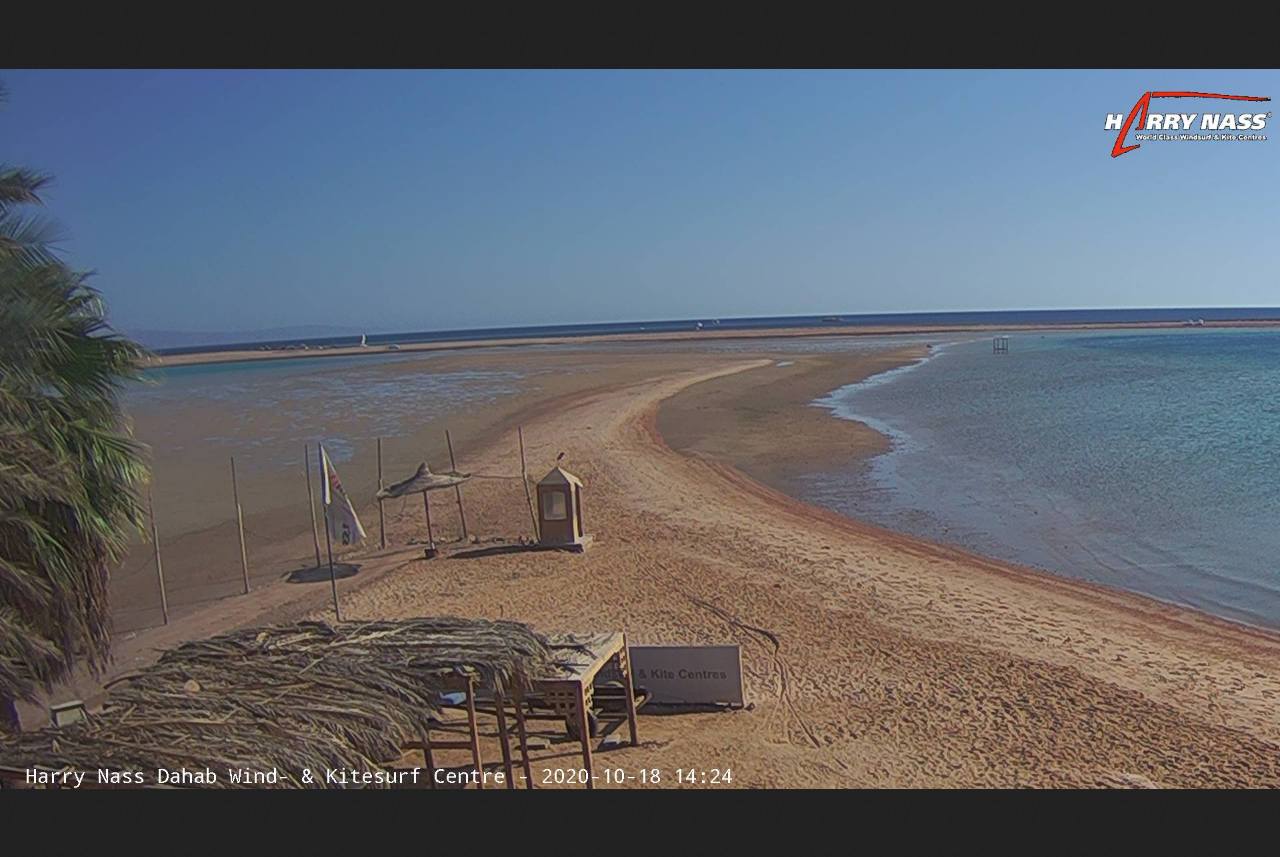no: (313, 443, 370, 551)
